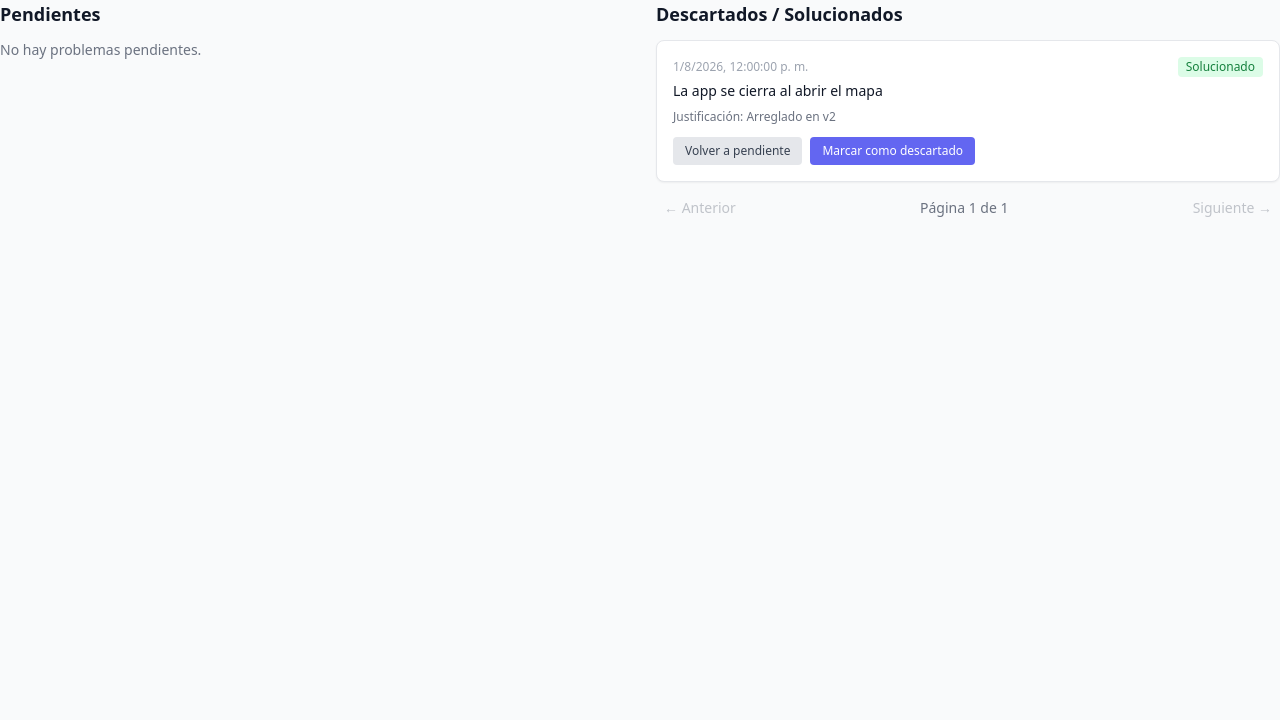
Test: ProblemasReportadosPage › alternar directamente entre descartado y solucionado precarga la justificación anterior
The width and height of the screenshot is (1280, 720).
Click the button "Marcar como descartado" at (893, 151), box [810,137,975,165]
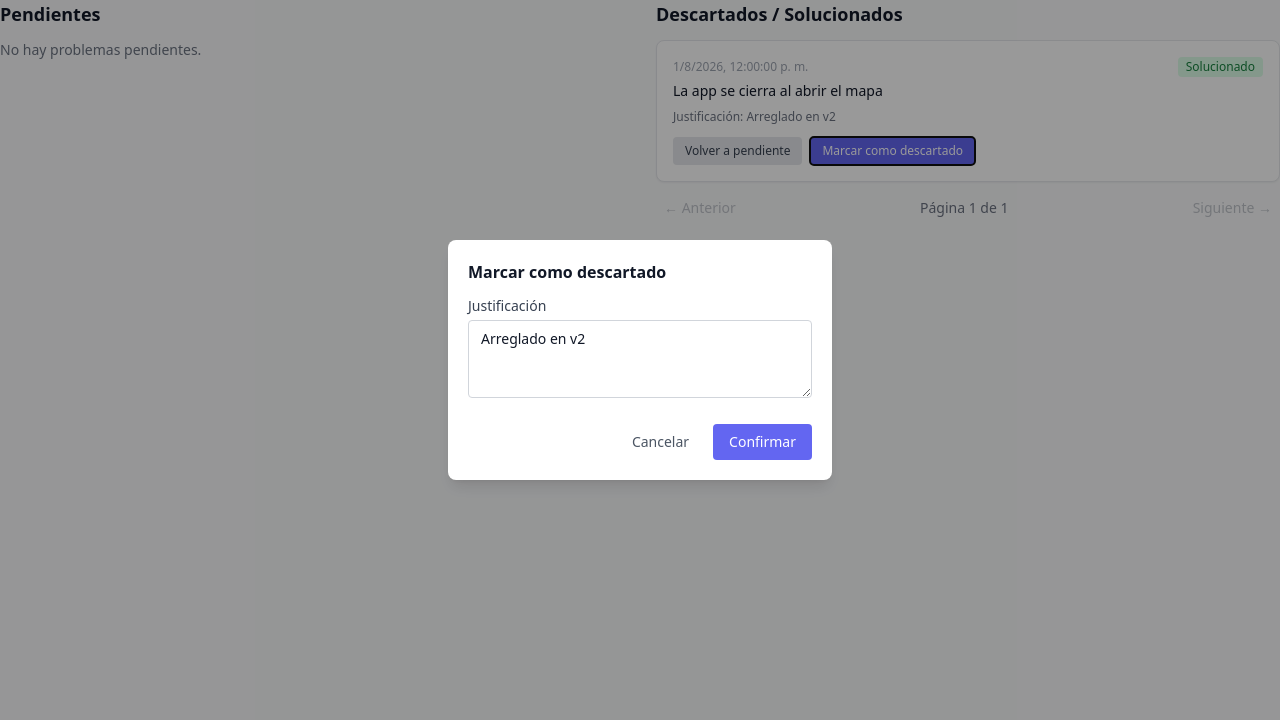
expect the text box with placeholder "Explica el motivo…" holds "Arreglado en v2": met
expect the button "Confirmar" is enabled: met, box [713,424,812,460]
Replace the text in the text box with placeholder "Explica el motivo…" with "Ya no es reproducible" at (640, 359), box [468,320,812,398]
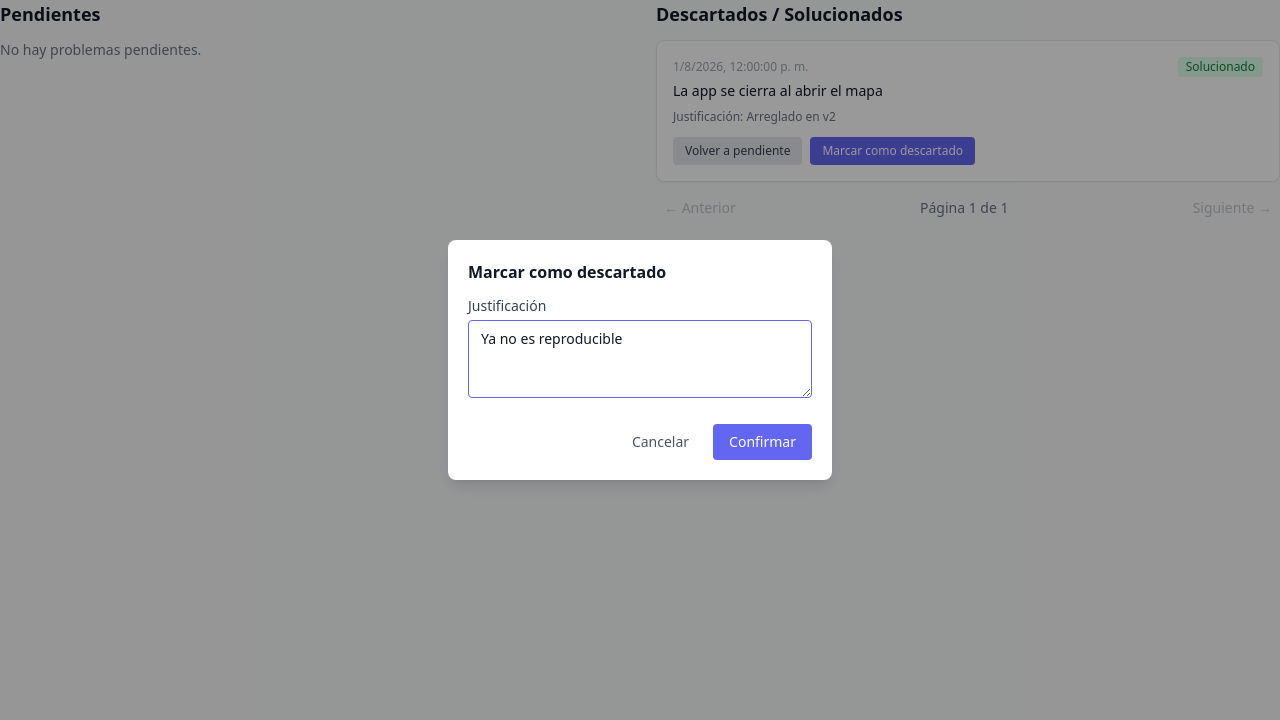
Click the button "Confirmar" at (763, 442), box [713,424,812,460]
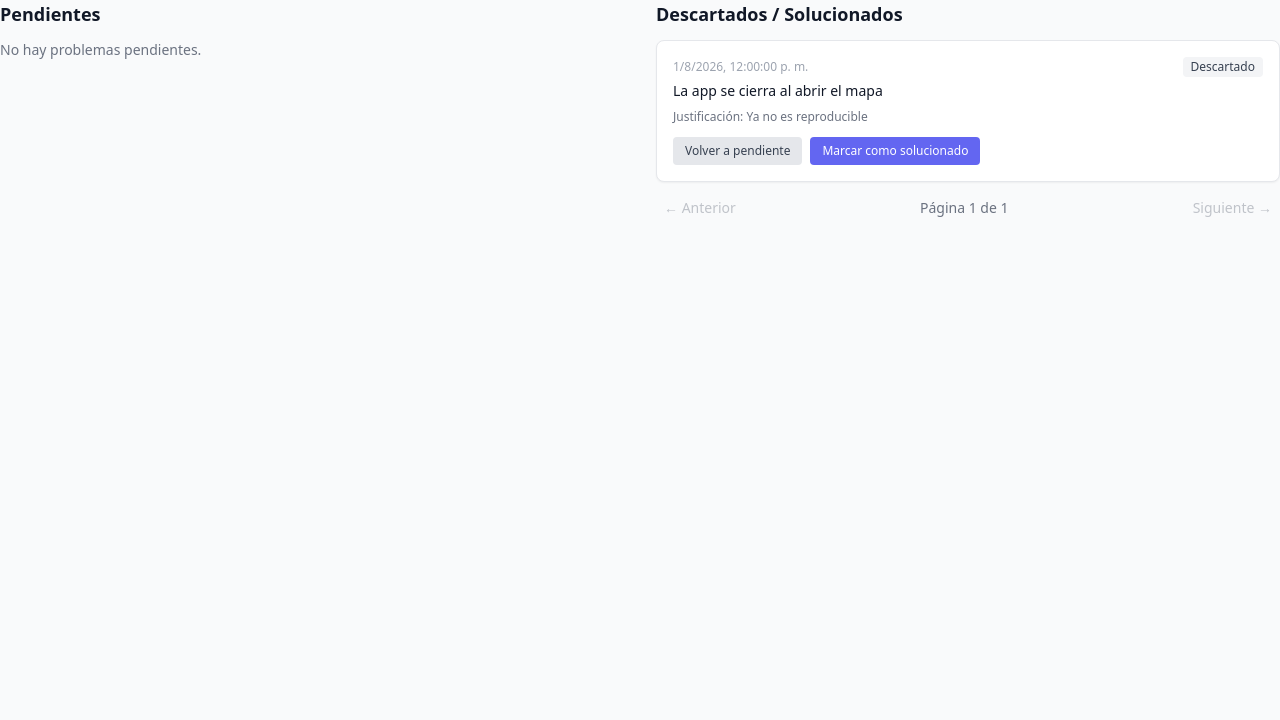
expect the text "Descartado" is shown: met, box [1183,57,1263,77]
expect the text "Justificación: Ya no es reproducible" is shown: met, box [673,108,868,125]
